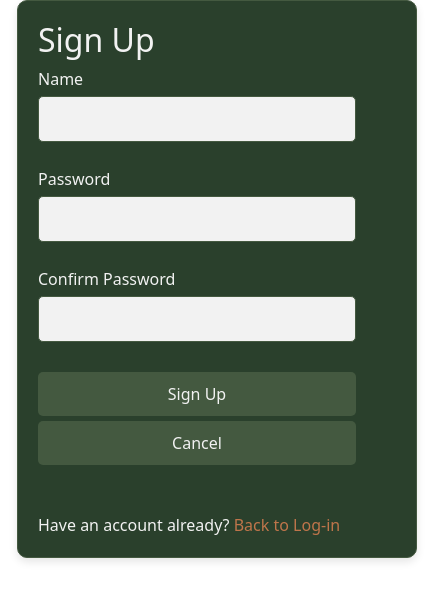
Test: displays error message from plain text response on failed registration
Type "anotherTestUser" into the field with test id "signup-username" at (197, 119), box [38,96,356,142]
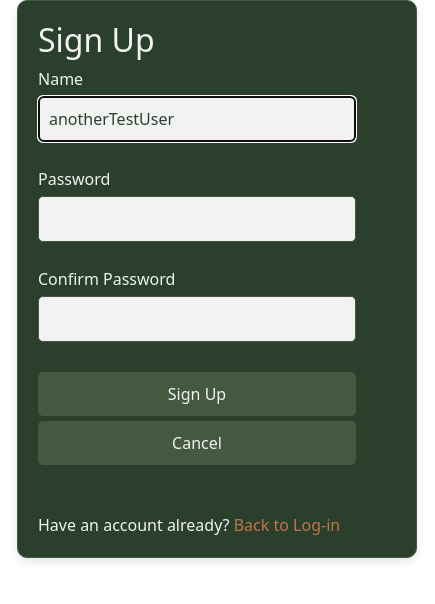
Type "anotherTestPass123" into the password field with test id "signup-password" at (197, 219), box [38,196,356,242]
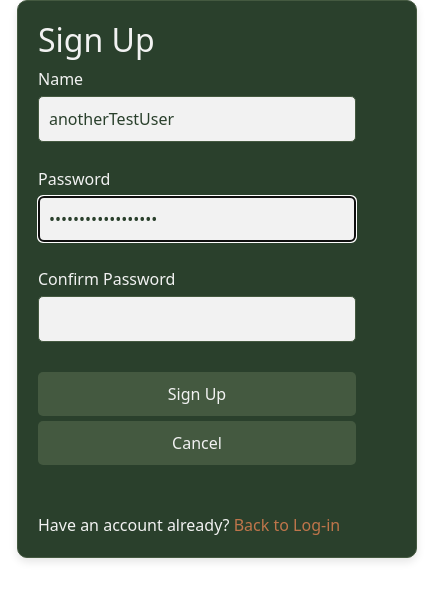
Type "anotherTestPass123" into the password field with test id "signup-password-confirm" at (197, 319), box [38,296,356,342]
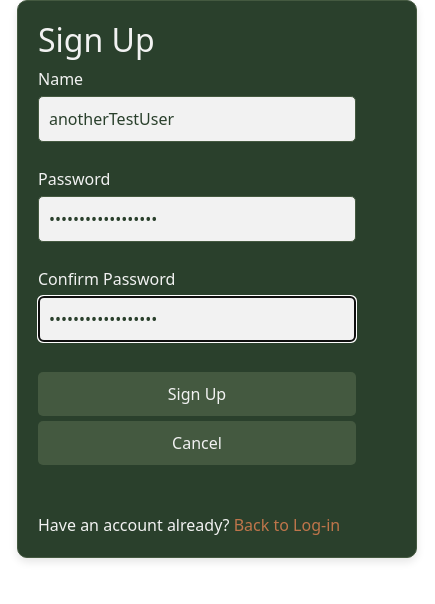
Click the button "Sign Up" at (197, 394), box [38,372,356,416]
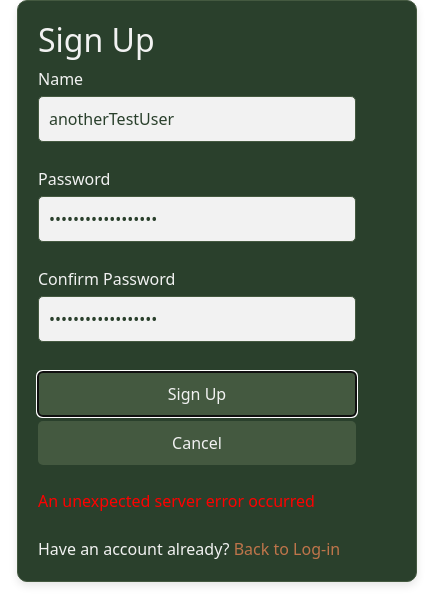
Check: the text "An unexpected server error occurred" is shown, box [38,490,315,512]
